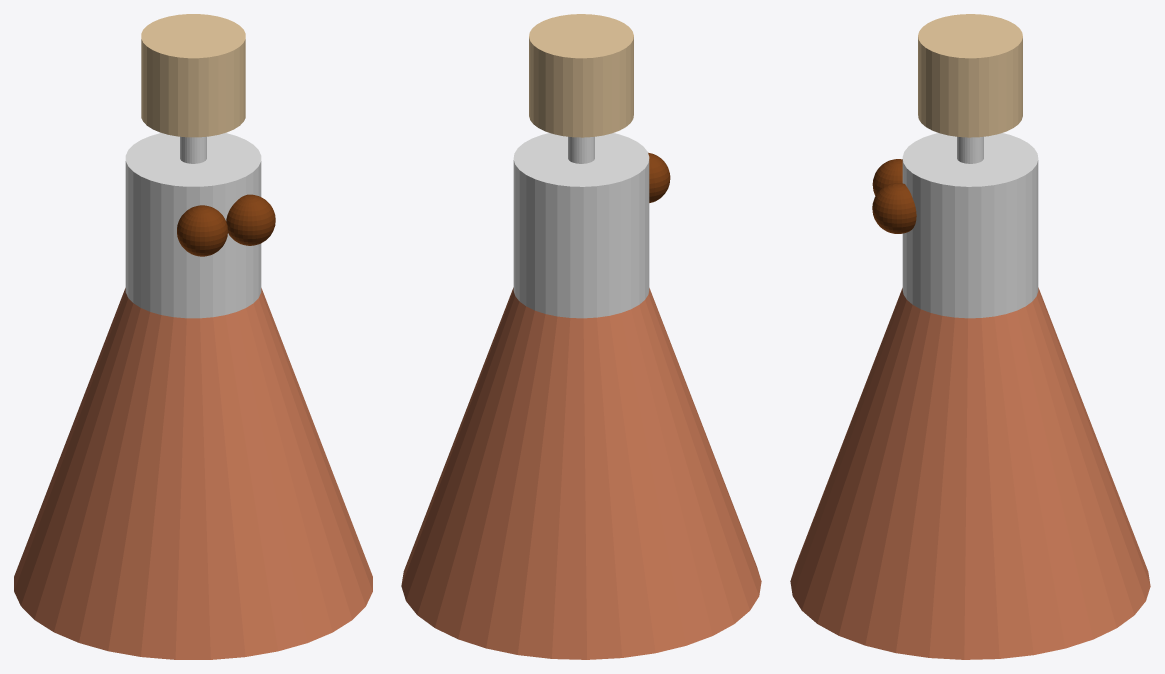
File: hula.fbx
3 renders of one model, left to right at view 1: azimuth 30°, elevation 25°; view 2: azimuth 150°, elevation 25°; view 3: azimuth 270°, elevation 25°, orthographic.
Visible parts, largest first — view 1: Cylinder, Sphere, Sphere.001; view 2: Cylinder, Sphere; view 3: Cylinder, Sphere.001, Sphere.
Part boxes in pixels (box(x1,y1,x2,y2)): Cylinder: box(14, 14, 372, 659); Sphere: box(177, 205, 227, 256); Sphere.001: box(226, 194, 275, 245); Cylinder: box(401, 14, 761, 659); Sphere: box(648, 152, 670, 202); Cylinder: box(790, 14, 1150, 659); Sphere.001: box(872, 183, 916, 233); Sphere: box(872, 159, 902, 195).
Size of the model in its own units: 222 by 372 by 222.
